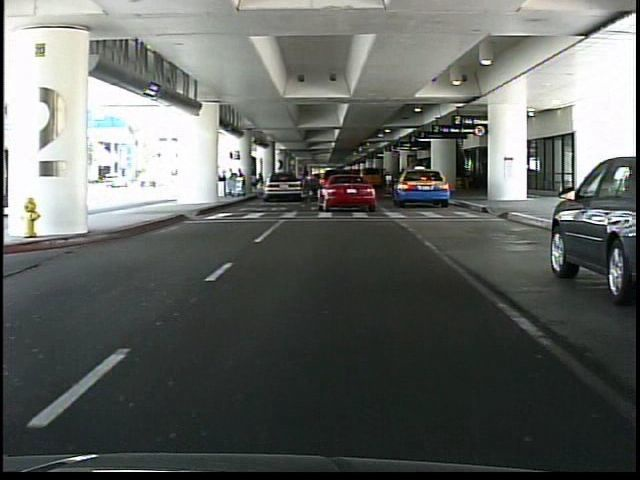person: (300, 165, 314, 200)
